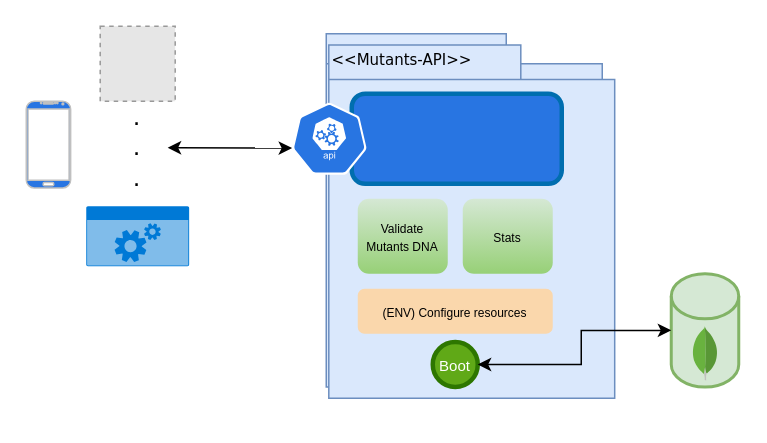
This 767x443 diagram has some shape labels left out. Grey dashed boxes stand in for pictures. The shapes that lost their labels are listed below. From the top down, each one's box as (x1, y1, x2, y2) in pixels, then its label:
(349, 91, 563, 185): - GET /mutants/health - POST /mutants - POST /mutants/stats
(86, 206, 188, 266): Services
